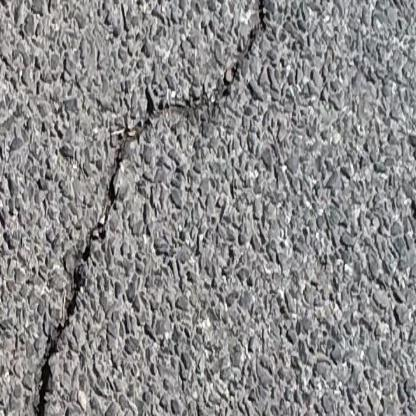Cracks: (28, 0, 271, 416)
